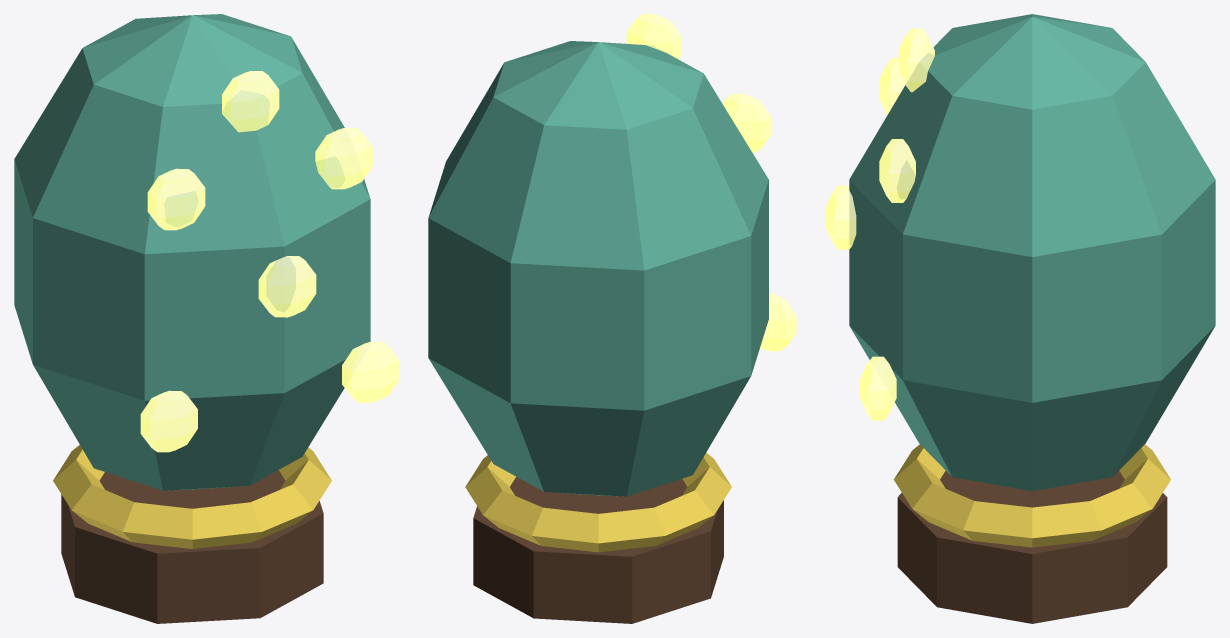
File: std_dragon_egg.glb
3 views of the same model, side by side, from view 1: azimuth 30°, elevation 25°; view 2: azimuth 150°, elevation 25°; view 3: azimuth 270°, elevation 25° (orthographic). The views are drawn at different scales.
Parts seen in each view (by area): view 1: std_dragon_egg; view 2: std_dragon_egg; view 3: std_dragon_egg.
Boxes of the visible parts, x1,y1,x2,y2 form: std_dragon_egg: [14, 14, 399, 623]; std_dragon_egg: [428, 14, 796, 623]; std_dragon_egg: [825, 14, 1215, 623].
Size of the model in its own units: 0.1902 by 0.315 by 0.2026.
